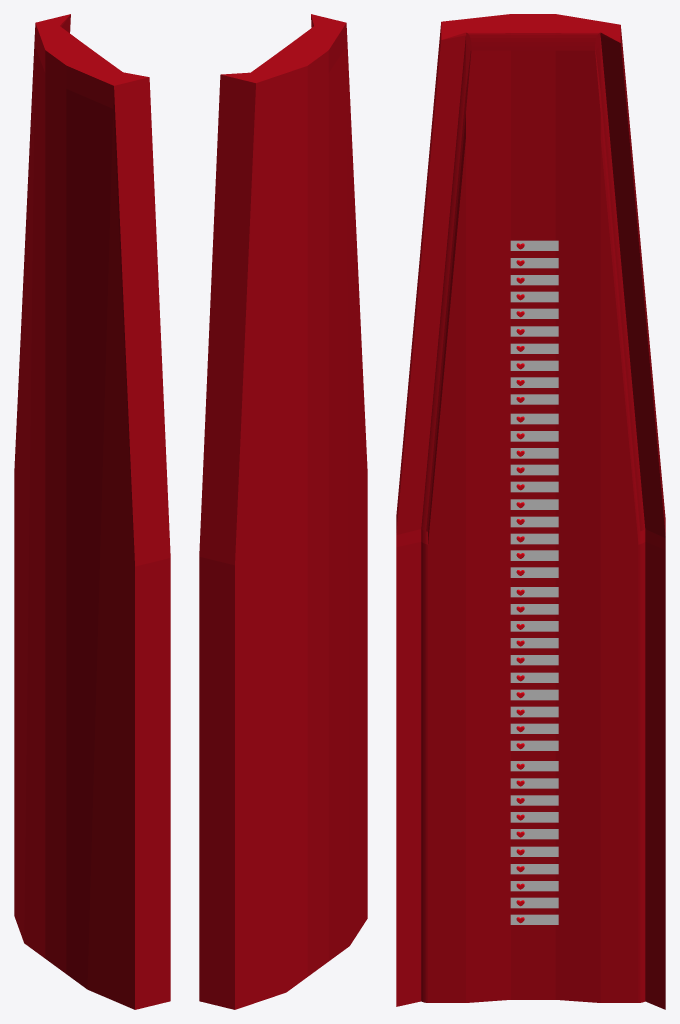
The model's file is cenotafio.fbx.
The picture shows the model from 3 angles, left to right: view 1: azimuth 30°, elevation 25°; view 2: azimuth 150°, elevation 25°; view 3: azimuth 270°, elevation 25°; orthographic projection. The views are drawn at different scales.
Visible parts, largest first — view 1: Cube; view 2: Cube; view 3: Cube, Cube.004, Cube.003, Cube.002, Cube.005.
Part boxes in pixels (x1,y1,x2,y2): Cube: (14,14,170,1009); Cube: (199,14,367,1009); Cube: (396,14,665,1009); Cube.004: (510,413,558,577); Cube.003: (510,587,558,750); Cube.002: (510,761,558,924); Cube.005: (510,240,558,404).
Size of what is drawn, in the model's own units: 414 by 6389 by 1614.
